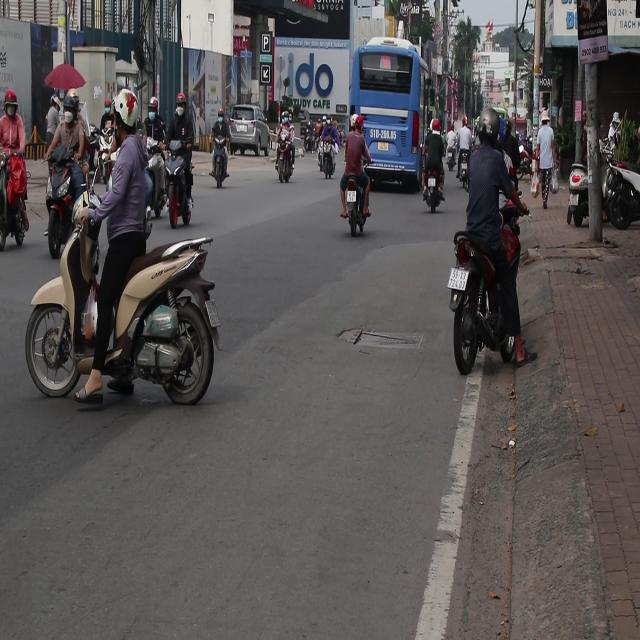bus: (352, 40, 428, 190)
car: (229, 106, 271, 157)
motorbike: (23, 238, 235, 416), (460, 222, 527, 369), (38, 152, 86, 245), (135, 120, 165, 228), (0, 145, 25, 251), (167, 143, 199, 218), (266, 128, 308, 184), (340, 172, 367, 232), (423, 176, 447, 218), (316, 138, 337, 180), (516, 156, 536, 200), (217, 143, 231, 190), (441, 151, 458, 176), (304, 130, 316, 152), (460, 163, 471, 185)
